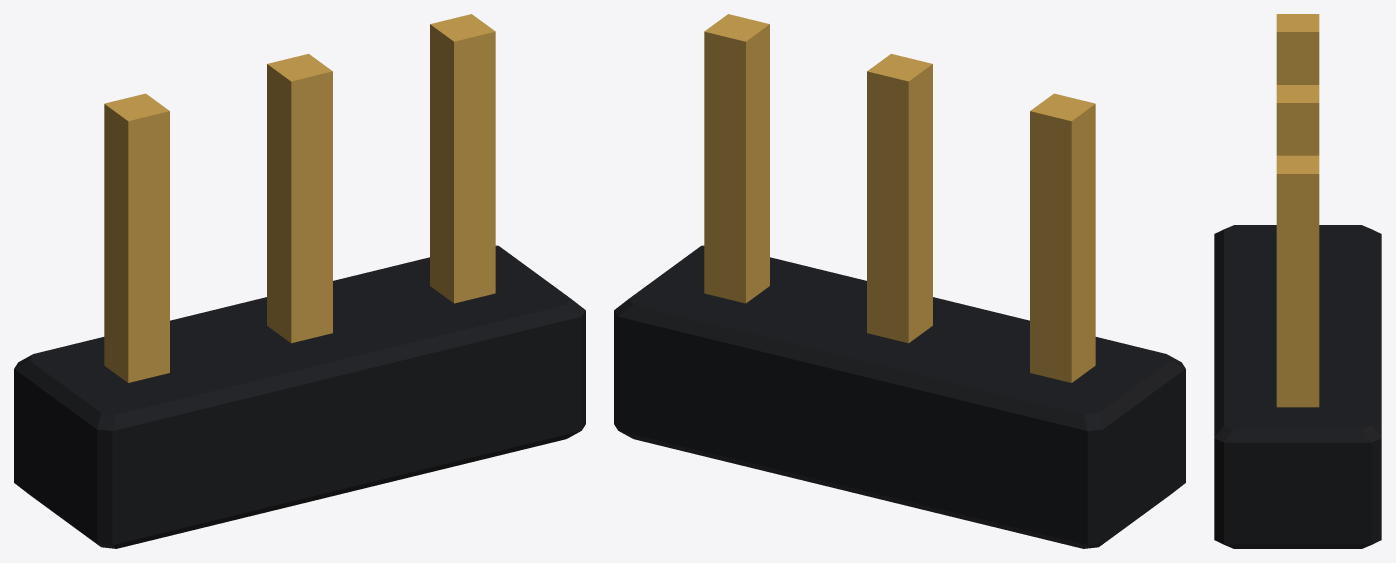
The model's file is L128_ARGB_1.fbx.
The picture shows the model from 3 angles, left to right: view 1: azimuth 30°, elevation 25°; view 2: azimuth 150°, elevation 25°; view 3: azimuth 270°, elevation 25°; orthographic projection. The views are drawn at different scales.
Visible parts, largest first — view 1: ARGB_1__Plastic, ARGB_1__Gold; view 2: ARGB_1__Plastic, ARGB_1__Gold; view 3: ARGB_1__Plastic, ARGB_1__Gold.
Boxes of the visible parts, left/top/right/bottom form: ARGB_1__Plastic: left=14, top=245, right=585, bottom=548; ARGB_1__Gold: left=104, top=14, right=495, bottom=382; ARGB_1__Plastic: left=614, top=245, right=1185, bottom=548; ARGB_1__Gold: left=704, top=14, right=1095, bottom=382; ARGB_1__Plastic: left=1214, top=225, right=1381, bottom=548; ARGB_1__Gold: left=1276, top=14, right=1319, bottom=407.
Size of the model in its own units: 7.62 by 5.9 by 2.54.
